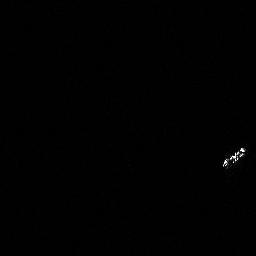ship: (217, 143, 249, 171)
